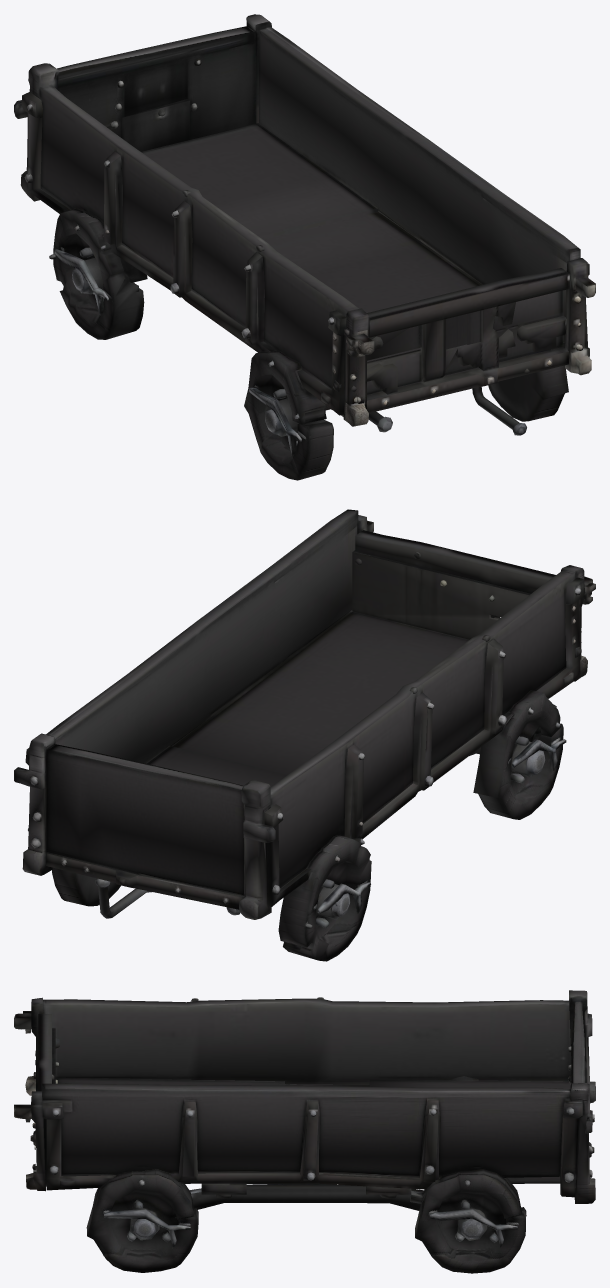
Rendered from cart.glb.
3 views of the same model, one above another, from view 1: azimuth 30°, elevation 25°; view 2: azimuth 150°, elevation 25°; view 3: azimuth 270°, elevation 25° (orthographic). The views are drawn at different scales.
Visible parts, largest first — view 1: cart-body, cart-wheel-rear-left, cart-wheel-front-left, cart-wheel-front-right; view 2: cart-body, cart-wheel-rear-left, cart-wheel-front-left, cart-wheel-rear-right; view 3: cart-body, cart-wheel-rear-right, cart-wheel-front-right.
Boxes of the visible parts, x1,y1,x2,y2 form: cart-body: (14,14,595,432); cart-wheel-rear-left: (26,174,147,339); cart-wheel-front-left: (244,351,333,480); cart-wheel-front-right: (472,365,568,435); cart-body: (14,509,595,919); cart-wheel-rear-left: (276,822,371,961); cart-wheel-front-left: (473,690,566,819); cart-wheel-rear-right: (52,867,151,918); cart-body: (14,990,595,1210); cart-wheel-rear-right: (366,1169,569,1273); cart-wheel-front-right: (86,1169,246,1272).
Bounding box in the file's own units: 1.41 × 1.03 × 3.
1 material, 1 textured.
